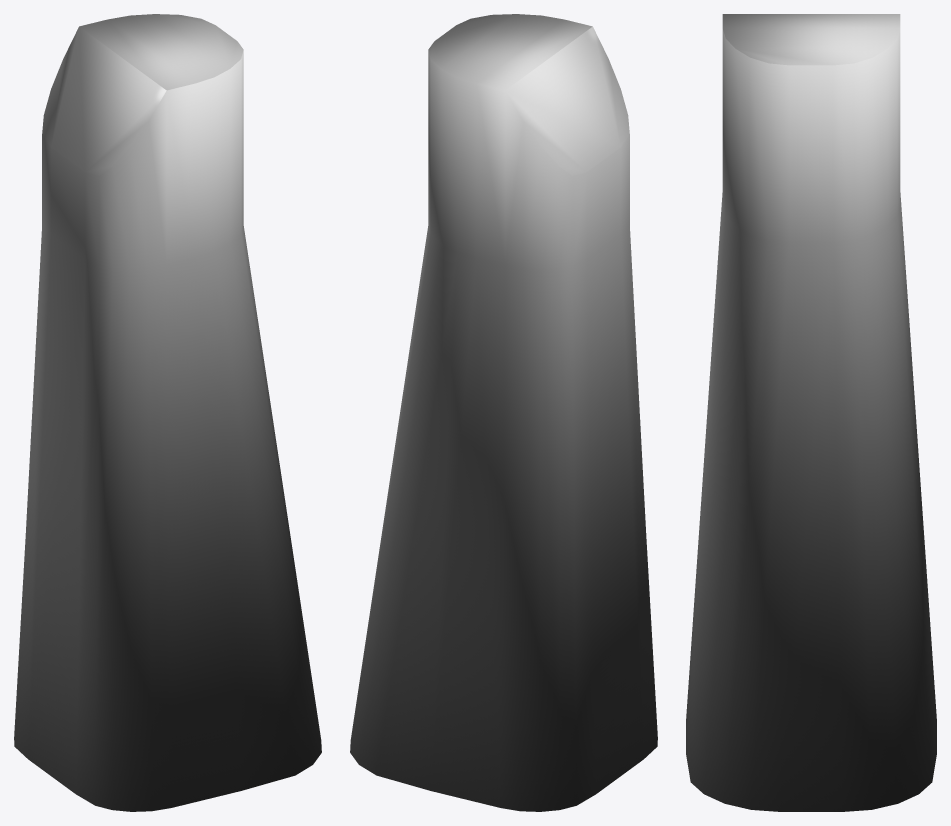
The model's file is torso.dae.
3 renders of one model, left to right at view 1: azimuth 30°, elevation 25°; view 2: azimuth 150°, elevation 25°; view 3: azimuth 270°, elevation 25°, orthographic.
Parts seen in each view (by area): view 1: torso; view 2: torso; view 3: torso.
Part boxes in pixels (x1=…): torso: x1=14, y1=14, x2=321, y2=811; torso: x1=350, y1=14, x2=657, y2=811; torso: x1=686, y1=14, x2=936, y2=811.
Size of the model in its own units: 0.291 by 0.2553 by 0.8.
1 material, 1 textured.
